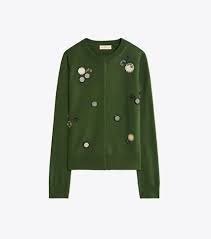S_cardigan sweater: (46, 36, 164, 202)
